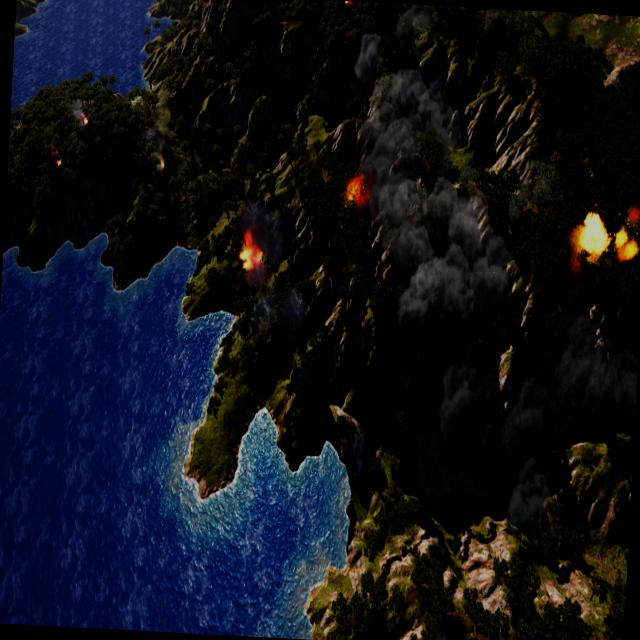fire: (580, 212, 612, 258), (614, 223, 640, 264), (238, 234, 266, 268), (344, 177, 368, 208), (56, 156, 64, 168), (82, 116, 89, 128), (160, 158, 167, 170), (346, 1, 356, 8)
smoke: (340, 3, 532, 330), (497, 311, 640, 532), (234, 198, 314, 334), (436, 358, 479, 452), (67, 96, 86, 127)
